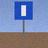sign: (14, 2, 32, 37)
